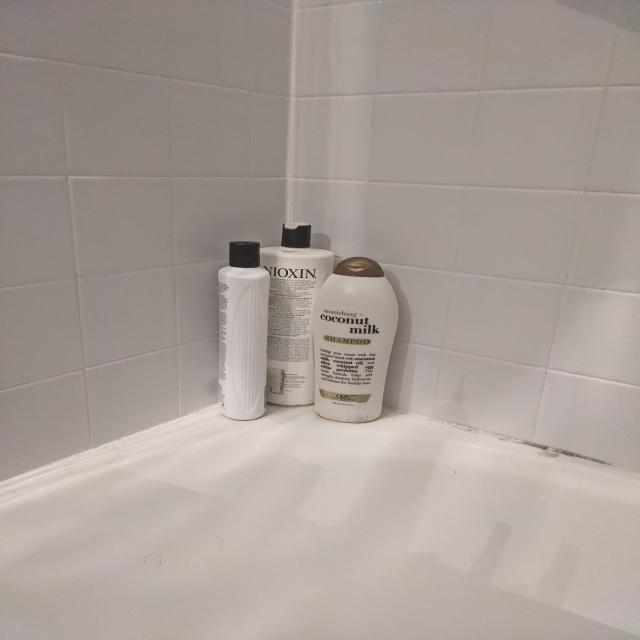litter: (166, 195, 426, 441)
